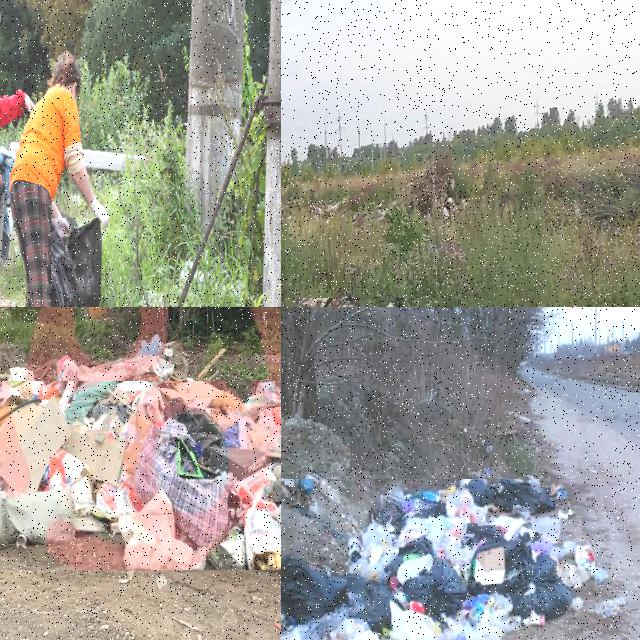lixeira: (0, 382, 280, 573), (281, 479, 598, 639), (52, 217, 102, 306)
